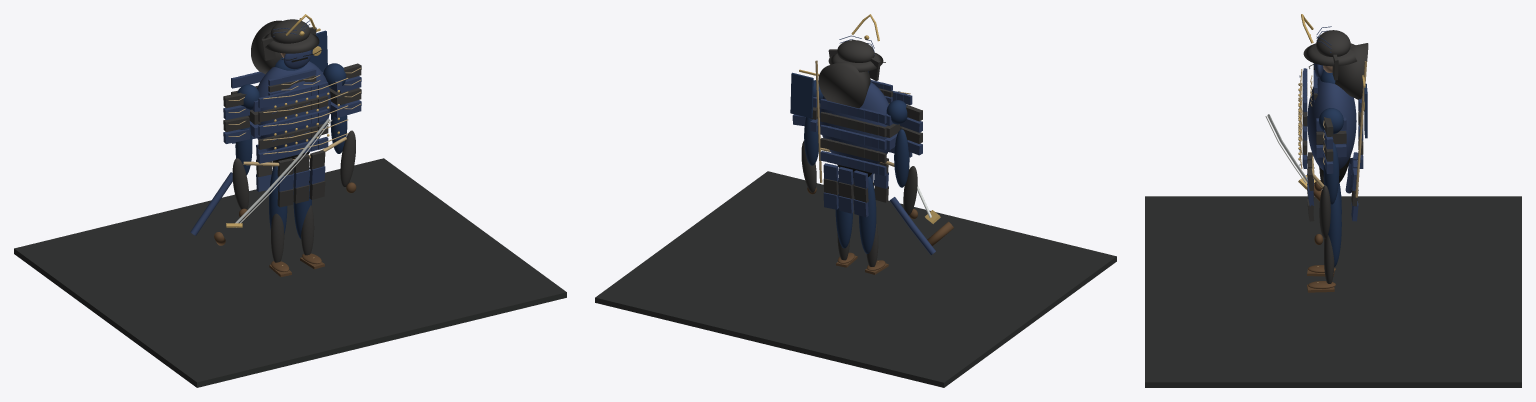
Rendered from actor-uesugi-09.glb.
3 views of the same model, side by side, from view 1: azimuth 30°, elevation 25°; view 2: azimuth 150°, elevation 25°; view 3: azimuth 270°, elevation 25° (orthographic). The views are drawn at different scales.
Visible parts, largest first — view 1: matte charcoal inspection plinth, rounded do cuirass silhouette, rear shikoro neck guard flare, segmented kabuto helmet bowl, right kote forearm guard, left kote forearm guard, wide kabuto brim, left shin greave, left hakama trouser leg, lacquered saya scabbard at left hip, right shin greave, right armored upper arm; view 2: matte charcoal inspection plinth, rear shikoro neck guard flare, rounded do cuirass silhouette, cloth sashimono banner panel, left hakama trouser leg, left armored upper arm, segmented kabuto helmet bowl, right hakama trouser leg, right armored upper arm, left kote forearm guard, lacquered saya scabbard at left hip; view 3: matte charcoal inspection plinth, rounded do cuirass silhouette, rear shikoro neck guard flare, segmented kabuto helmet bowl, right hakama trouser leg, wide kabuto brim, right armored upper arm, right kote forearm guard, right shin greave, right shoulder undercloth, bamboo sashimono back pole.
Boxes of the visible parts, box(x1,y1,x2,y2) form: matte charcoal inspection plinth: box(14, 158, 566, 387); rounded do cuirass silhouette: box(257, 61, 330, 150); rear shikoro neck guard flare: box(251, 20, 282, 74); segmented kabuto helmet bowl: box(270, 19, 310, 43); right kote forearm guard: box(340, 130, 355, 186); left kote forearm guard: box(232, 158, 248, 209); wide kabuto brim: box(261, 33, 319, 53); left shin greave: box(271, 213, 284, 262); left hakama trouser leg: box(269, 166, 287, 234); lacquered saya scabbard at left hip: box(190, 172, 232, 235); right shin greave: box(301, 205, 314, 255); right armored upper arm: box(330, 104, 347, 153); matte charcoal inspection plinth: box(595, 171, 1116, 387); rear shikoro neck guard flare: box(818, 61, 870, 108); rounded do cuirass silhouette: box(819, 82, 888, 163); cloth sashimono banner panel: box(790, 72, 813, 118); left hakama trouser leg: box(859, 176, 876, 253); left armored upper arm: box(894, 129, 909, 187); segmented kabuto helmet bowl: box(837, 40, 874, 62); right hakama trouser leg: box(835, 180, 852, 248); right armored upper arm: box(804, 117, 818, 165); left kote forearm guard: box(903, 166, 917, 215); lacquered saya scabbard at left hip: box(889, 197, 935, 254); matte charcoal inspection plinth: box(1145, 196, 1521, 387); rounded do cuirass silhouette: box(1307, 78, 1356, 170); rear shikoro neck guard flare: box(1335, 43, 1368, 99); segmented kabuto helmet bowl: box(1316, 30, 1350, 56); right hakama trouser leg: box(1328, 189, 1341, 267); wide kabuto brim: box(1303, 43, 1356, 66); right armored upper arm: box(1323, 142, 1339, 204); right kote forearm guard: box(1319, 185, 1330, 238); right shin greave: box(1324, 235, 1334, 283); right shoulder undercloth: box(1319, 108, 1343, 134); bamboo sashimono back pole: box(1355, 61, 1366, 197).
Size of the model in its own units: 4.2 by 2.96 by 3.6.
